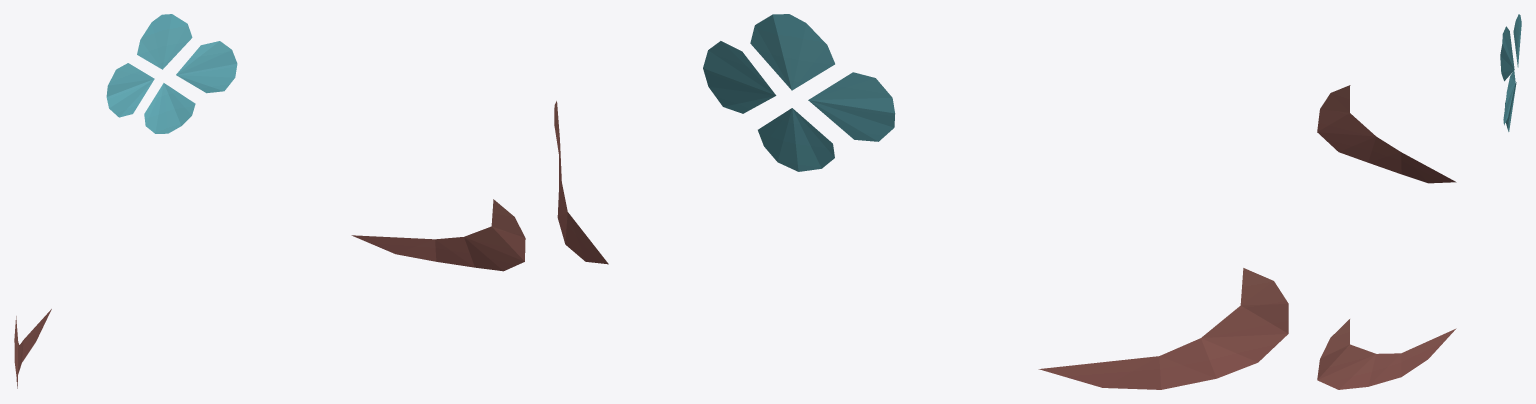
The model's file is CharSkyKid_Mask_AP21PaintMakeup.glb.
The picture shows the model from 3 angles, left to right: view 1: azimuth 30°, elevation 25°; view 2: azimuth 150°, elevation 25°; view 3: azimuth 270°, elevation 25°; orthographic projection. The views are drawn at different scales.
Visible parts, largest first — view 1: CharSkyKid_Mask_AP21PaintMakeup; view 2: CharSkyKid_Mask_AP21PaintMakeup; view 3: CharSkyKid_Mask_AP21PaintMakeup.
Boxes of the visible parts, left/top/right/bottom form: CharSkyKid_Mask_AP21PaintMakeup: left=14, top=14, right=525, bottom=388; CharSkyKid_Mask_AP21PaintMakeup: left=554, top=14, right=1288, bottom=389; CharSkyKid_Mask_AP21PaintMakeup: left=1317, top=14, right=1521, bottom=389.
Bounding box in the file's own units: 1.72 × 0.8222 × 0.5939.
1 material, 1 textured.
